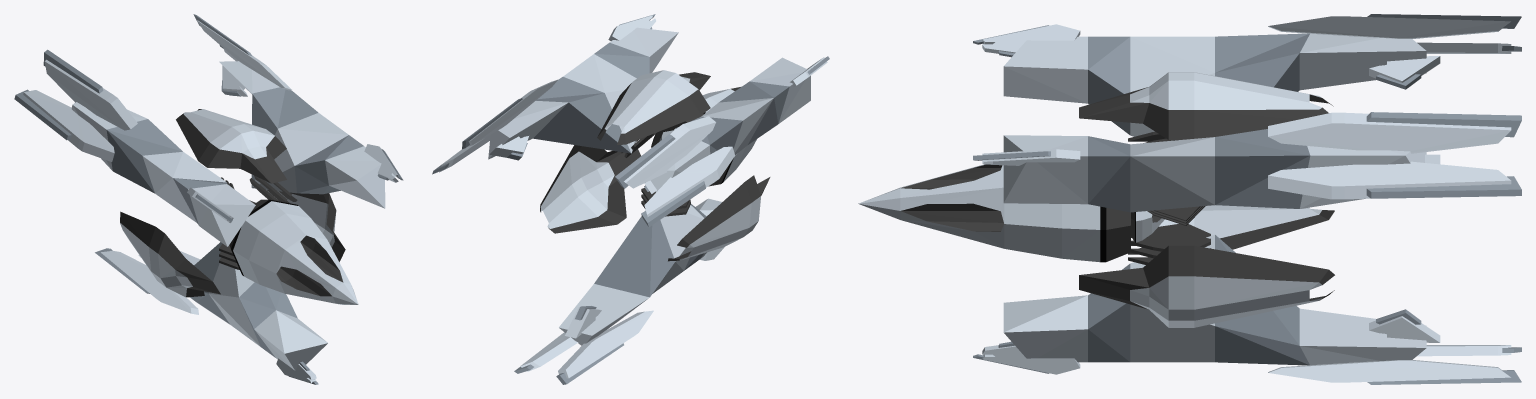
File: GunWeapon.FBX
3 renders of one model, left to right at view 1: azimuth 30°, elevation 25°; view 2: azimuth 150°, elevation 25°; view 3: azimuth 270°, elevation 25°, orthographic. The views are drawn at different scales.
Parts seen in each view (by area): view 1: VIFS005, VIFS008, VIFS017, VIFS002, VIFS004, VIFS007, VIFS001, VIFS014, VIFS015, VIFS010, VIFS016, VIFS011 (+3 smaller); view 2: VIFS005, VIFS002, VIFS008, VIFS007, VIFS001, VIFS004, VIFS013, VIFS015, VIFS012, VIFS014, VIFS010, VIFS011 (+2 smaller); view 3: VIFS008, VIFS005, VIFS002, VIFS007, VIFS017, VIFS001, VIFS004, VIFS013, VIFS012, VIFS014, VIFS015, VIFS016 (+4 smaller).
Part boxes in pixels (x1,y1,x2,y2): VIFS005: (23, 59, 255, 246); VIFS008: (197, 20, 399, 208); VIFS017: (233, 201, 358, 304); VIFS002: (101, 250, 327, 383); VIFS004: (14, 49, 232, 224); VIFS007: (193, 14, 403, 194); VIFS001: (95, 242, 318, 384); VIFS014: (176, 109, 286, 183); VIFS015: (183, 109, 274, 159); VIFS010: (120, 211, 220, 297); VIFS016: (229, 199, 343, 296); VIFS011: (120, 223, 192, 297); VIFS005: (624, 57, 827, 216); VIFS002: (520, 198, 724, 378); VIFS008: (439, 15, 678, 172); VIFS007: (432, 14, 655, 174); VIFS001: (514, 204, 706, 384); VIFS004: (615, 56, 829, 227); VIFS013: (540, 151, 614, 228); VIFS015: (604, 70, 698, 133); VIFS012: (540, 145, 640, 233); VIFS014: (597, 72, 710, 144); VIFS010: (668, 175, 770, 261); VIFS011: (679, 196, 760, 260); VIFS008: (982, 112, 1511, 212); VIFS005: (982, 16, 1511, 136); VIFS002: (982, 234, 1511, 382); VIFS007: (973, 112, 1521, 212); VIFS017: (858, 164, 1100, 262); VIFS001: (973, 235, 1521, 384); VIFS004: (973, 14, 1521, 134); VIFS013: (1130, 276, 1321, 327); VIFS012: (1079, 245, 1334, 309); VIFS014: (1079, 87, 1333, 139); VIFS015: (1130, 72, 1321, 109); VIFS016: (901, 164, 1130, 261).
Bounding box in the file's own units: 0.8691 × 0.8549 × 1.66.
